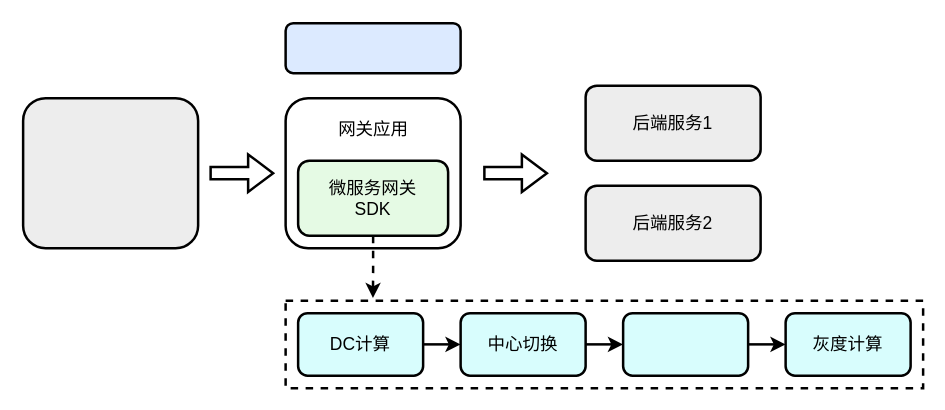
Image size: 945x410. Some labels were removed from this diagram. Each missing label, with the box of its shape:
分组计算: (621, 311, 749, 376)
客户端调用: (21, 96, 199, 249)
统一配置中心: (284, 21, 461, 74)
